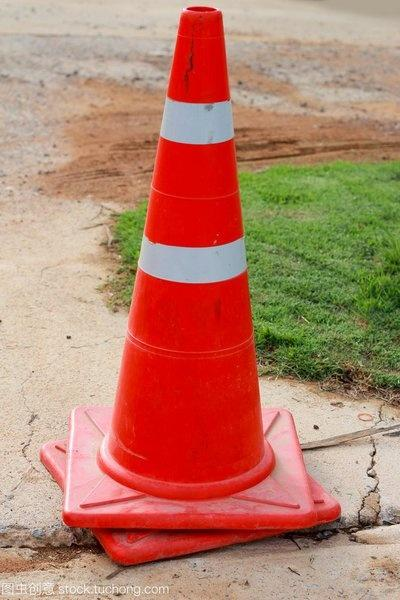cone_barrel: (105, 8, 278, 510)
